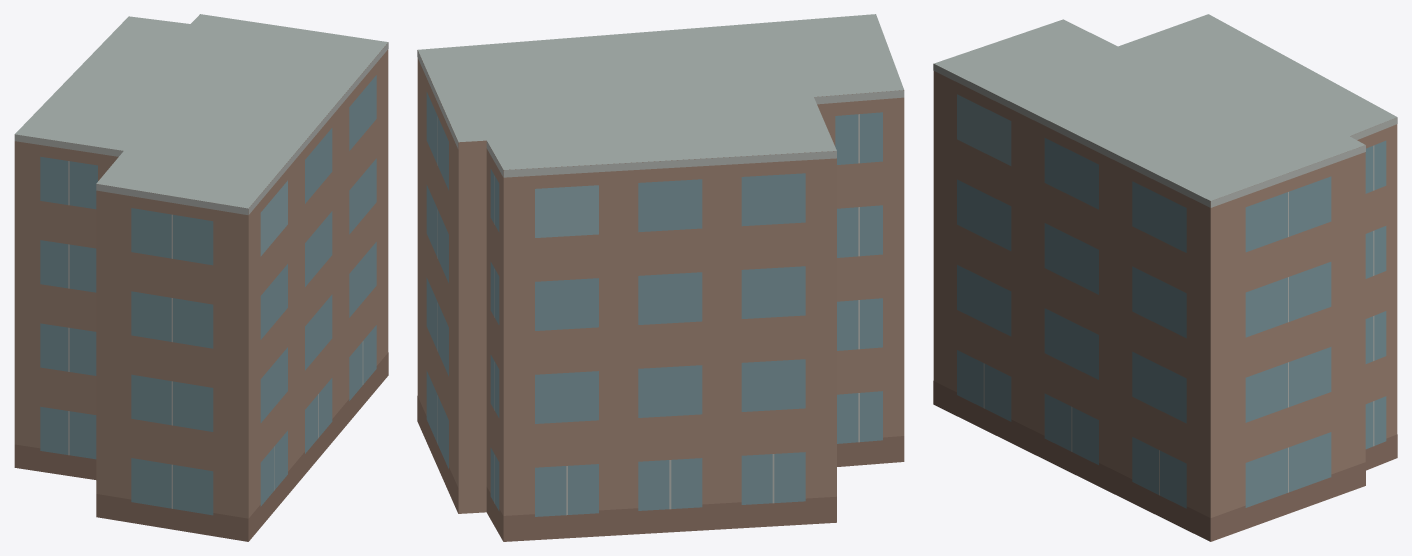
Rendered from survey-upis-32586206.glb.
3 views of the same model, side by side, from view 1: azimuth 30°, elevation 25°; view 2: azimuth 150°, elevation 25°; view 3: azimuth 270°, elevation 25° (orthographic). The views are drawn at different scales.
Parts seen in each view (by area): view 1: survey-upis-32586206.tmp; view 2: survey-upis-32586206.tmp; view 3: survey-upis-32586206.tmp.
Part boxes in pixels (x1,y1,x2,y2): survey-upis-32586206.tmp: (14, 14, 388, 541); survey-upis-32586206.tmp: (417, 14, 904, 541); survey-upis-32586206.tmp: (933, 14, 1397, 541).
Bounding box in the file's own units: 14.13 × 12 × 14.81.
